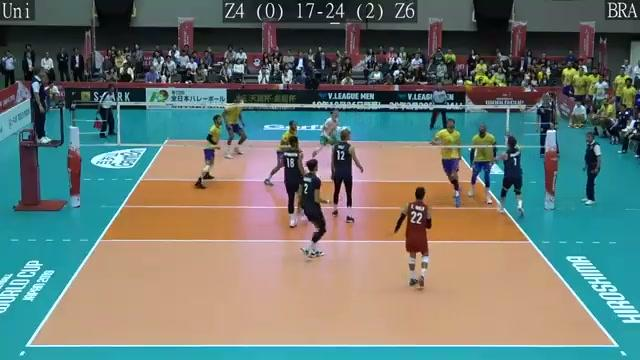ball: (461, 79, 476, 92)
